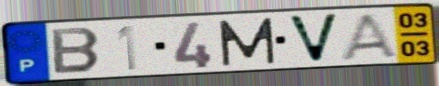1: (115, 24, 139, 71)
4: (171, 19, 216, 70)
A: (337, 11, 402, 60)
B: (49, 26, 104, 76)
M: (216, 16, 279, 68)
V: (284, 12, 342, 65)
